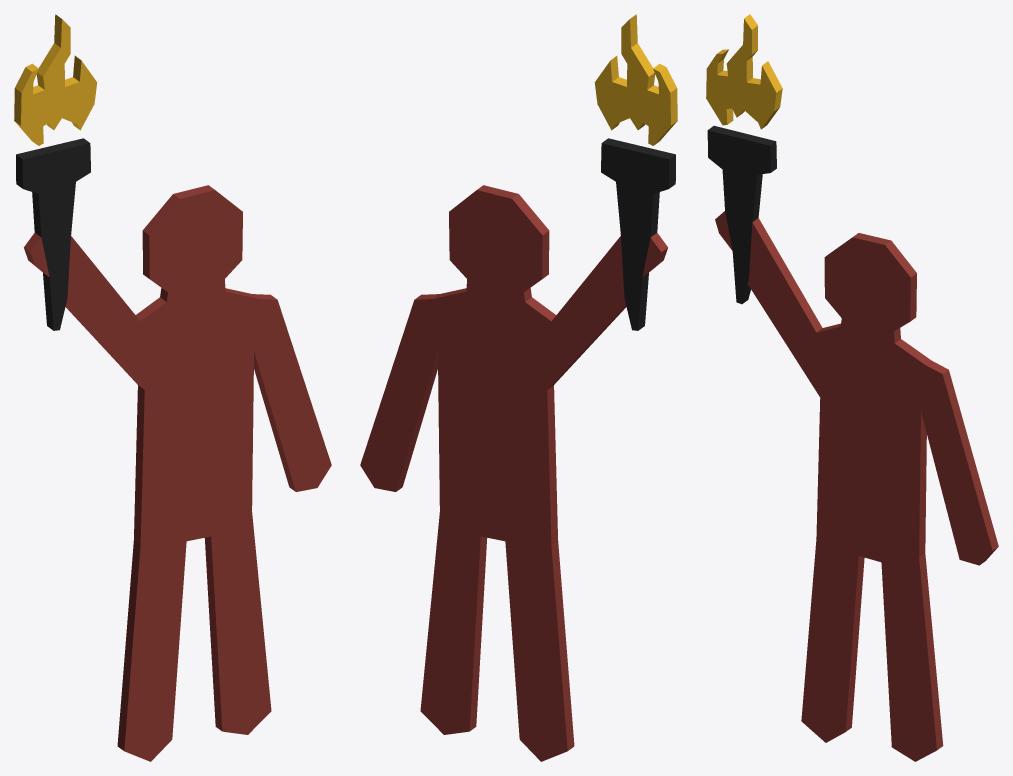
The model's file is Wallcarving_test2.glb.
3 renders of one model, left to right at view 1: azimuth 30°, elevation 25°; view 2: azimuth 150°, elevation 25°; view 3: azimuth 330°, elevation 25°, orthographic. The views are drawn at different scales.
Visible parts, largest first — view 1: Wall Drawing; view 2: Wall Drawing; view 3: Wall Drawing.
Part boxes in pixels (box(x1,y1,x2,y2)): Wall Drawing: box(14, 14, 331, 761); Wall Drawing: box(360, 14, 677, 761); Wall Drawing: box(706, 14, 998, 761).
Bounding box in the file's own units: 0.4432 × 1.04 × 0.0167.
